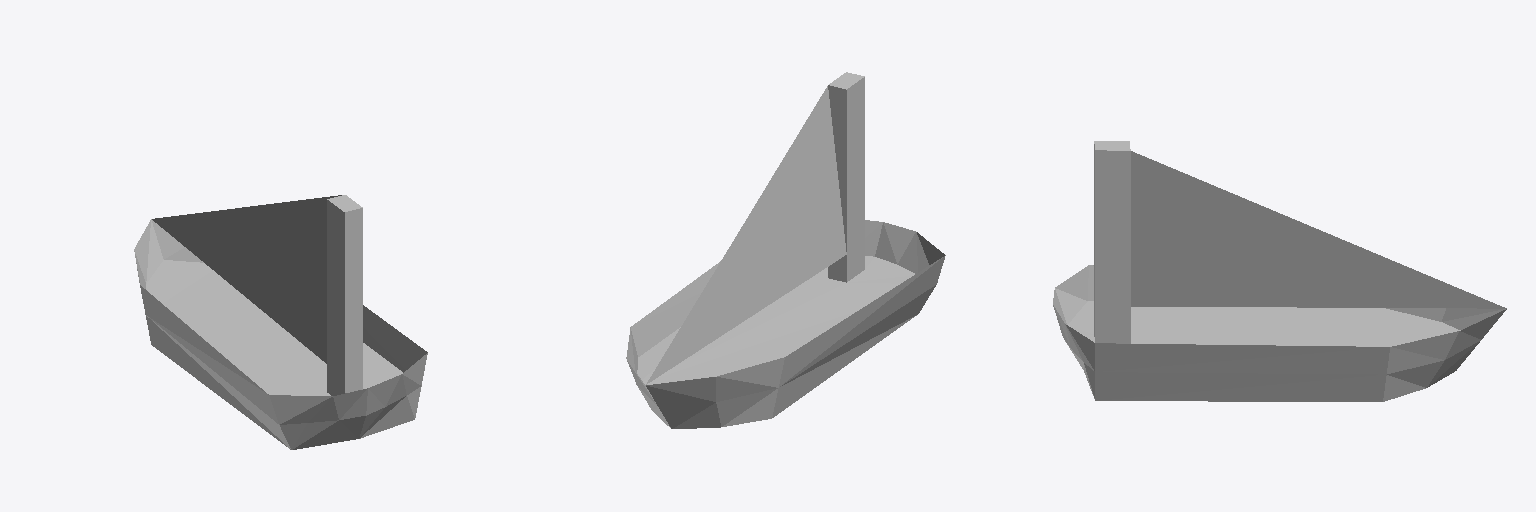
The model's file is boatSim3.obj.
3 renders of one model, left to right at view 1: azimuth 30°, elevation 25°; view 2: azimuth 150°, elevation 25°; view 3: azimuth 270°, elevation 25°, orthographic.
Visible parts, largest first — view 1: Cube.001_Cube.002; view 2: Cube.001_Cube.002; view 3: Cube.001_Cube.002.
Part boxes in pixels (left/top/right/bottom): Cube.001_Cube.002: left=134, top=195, right=427, bottom=449; Cube.001_Cube.002: left=626, top=72, right=945, bottom=428; Cube.001_Cube.002: left=1053, top=141, right=1506, bottom=401.
Bounding box in the file's own units: 5.35 × 7 × 12.8.